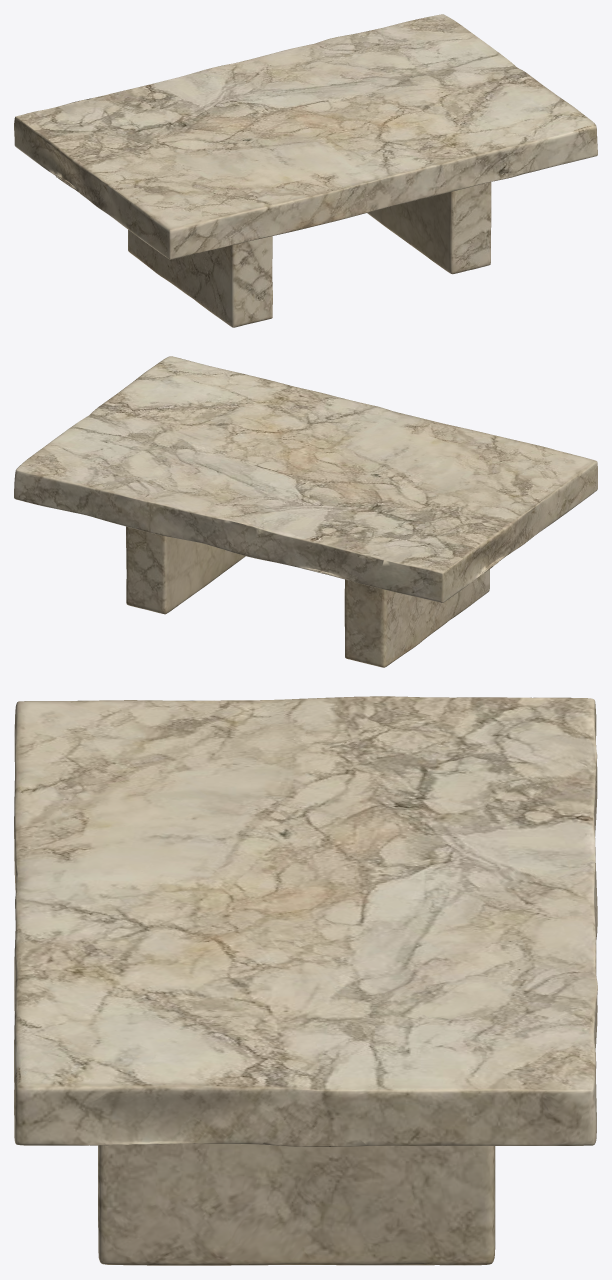
Rendered from coffee-table.glb.
The picture shows the model from 3 angles, top to bottom: view 1: azimuth 30°, elevation 25°; view 2: azimuth 150°, elevation 25°; view 3: azimuth 270°, elevation 25°; orthographic projection. The views are drawn at different scales.
Visible parts, largest first — view 1: tripo_node_2f1017fa-ac7c-4b0f-a19c-8400054b0e7c; view 2: tripo_node_2f1017fa-ac7c-4b0f-a19c-8400054b0e7c; view 3: tripo_node_2f1017fa-ac7c-4b0f-a19c-8400054b0e7c.
Part boxes in pixels (x1,y1,x2,y2): tripo_node_2f1017fa-ac7c-4b0f-a19c-8400054b0e7c: (14, 14, 597, 327); tripo_node_2f1017fa-ac7c-4b0f-a19c-8400054b0e7c: (14, 356, 597, 667); tripo_node_2f1017fa-ac7c-4b0f-a19c-8400054b0e7c: (14, 696, 597, 1265).
Size of the model in its own units: 0.9794 by 0.3005 by 0.6148.
1 material, 1 textured.
